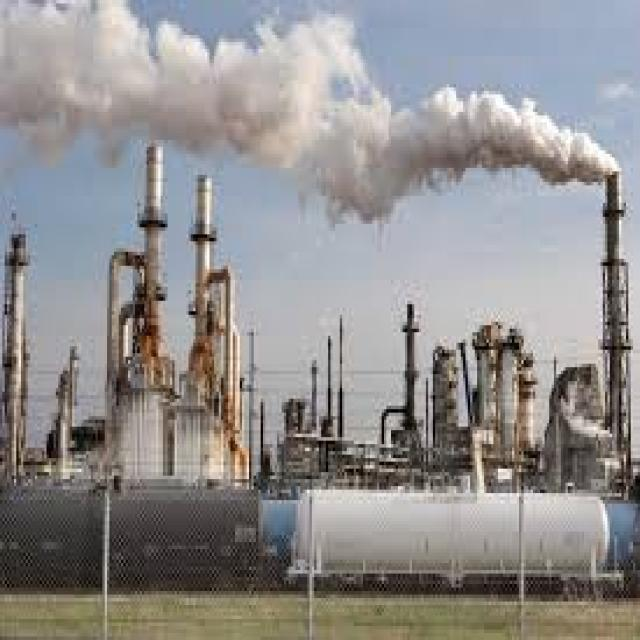Smoke: (0, 0, 621, 234)
